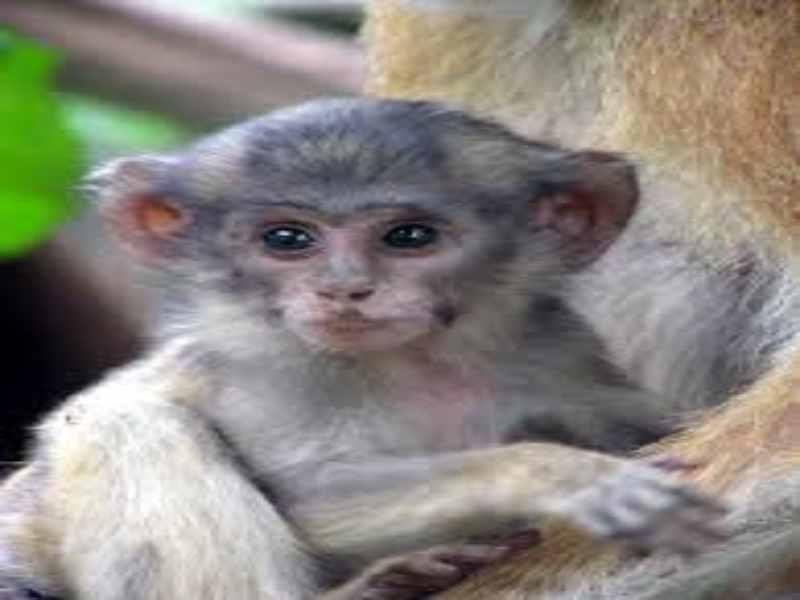monkey: (25, 80, 730, 587)
